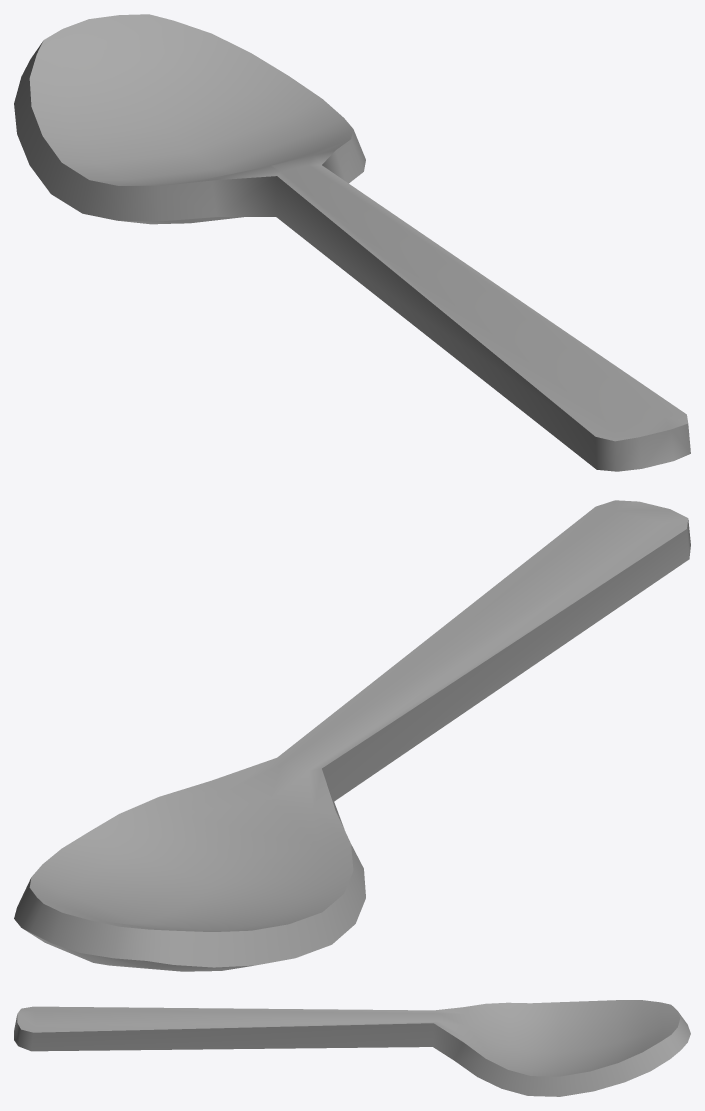
File: Spoon_01.fbx
The picture shows the model from 3 angles, top to bottom: view 1: azimuth 30°, elevation 25°; view 2: azimuth 150°, elevation 25°; view 3: azimuth 270°, elevation 25°; orthographic projection. The views are drawn at different scales.
Visible parts, largest first — view 1: Spoon_01; view 2: Spoon_01; view 3: Spoon_01.
Boxes of the visible parts, x1=… form: Spoon_01: x1=14, y1=14, x2=690, y2=471; Spoon_01: x1=14, y1=500, x2=690, y2=971; Spoon_01: x1=14, y1=1000, x2=690, y2=1096.
Bounding box in the file's own units: 11.62 × 3.9 × 41.41.
